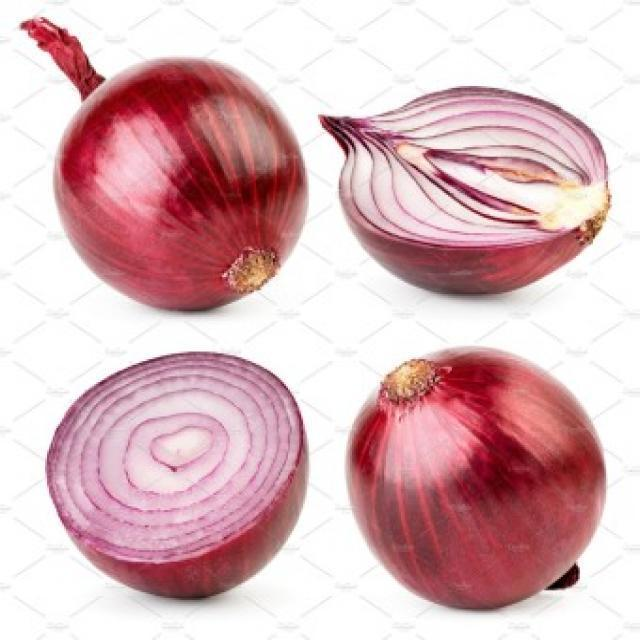onion: (20, 12, 318, 305), (37, 344, 320, 608), (348, 338, 620, 610), (323, 56, 608, 303)
